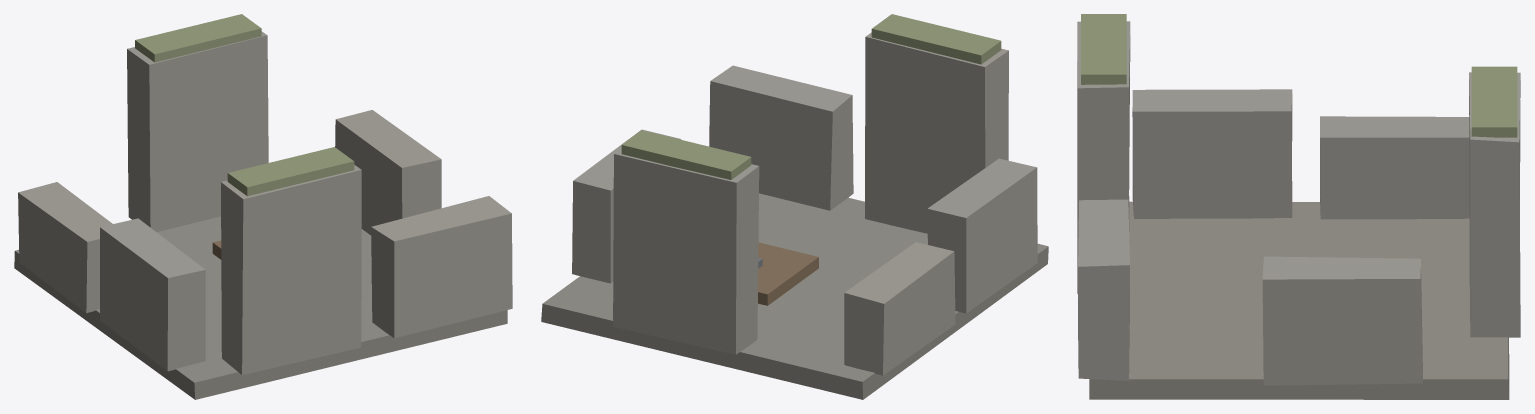
The model's file is cellar_ruin.glb.
3 renders of one model, left to right at view 1: azimuth 30°, elevation 25°; view 2: azimuth 150°, elevation 25°; view 3: azimuth 270°, elevation 25°, orthographic. The views are drawn at different scales.
Parts seen in each view (by area): view 1: cellar_ruin; view 2: cellar_ruin; view 3: cellar_ruin.
Part boxes in pixels (x1,y1,x2,y2): cellar_ruin: (14,14,512,399); cellar_ruin: (541,14,1048,399); cellar_ruin: (1077,14,1520,399).
Size of the model in its own units: 3.07 by 1.8 by 3.07.
